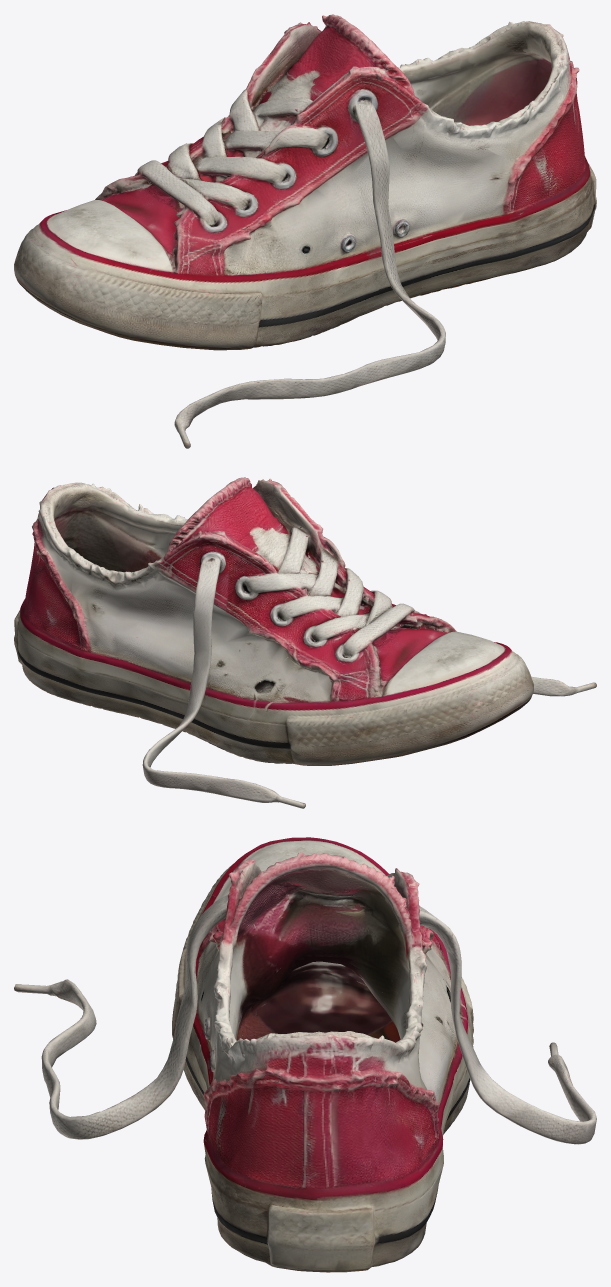
The model's file is prop-sneaker.glb.
3 views of the same model, one above another, from view 1: azimuth 30°, elevation 25°; view 2: azimuth 150°, elevation 25°; view 3: azimuth 270°, elevation 25° (orthographic). The views are drawn at different scales.
Visible parts, largest first — view 1: Mesh_0; view 2: Mesh_0; view 3: Mesh_0.
Boxes of the visible parts, <box> form: Mesh_0: <box>14,14,596,448</box>; Mesh_0: <box>14,477,596,808</box>; Mesh_0: <box>14,837,596,1272</box>.
Bounding box in the file's own units: 1.9 × 0.8314 × 1.45.
Materials: 1 (1 with a texture image).
